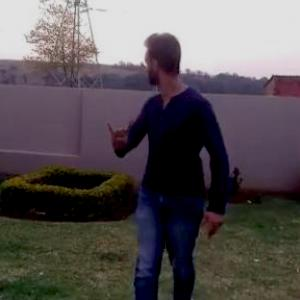takeoff-hand: (99, 110, 137, 157)
